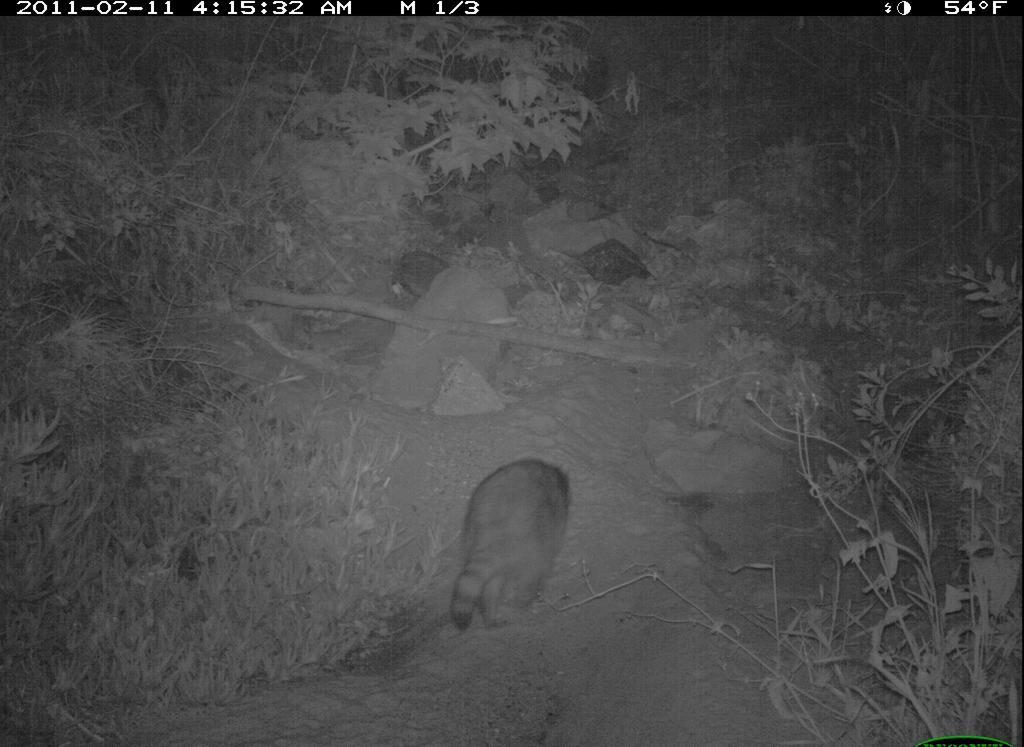raccoon: (443, 454, 583, 639)
